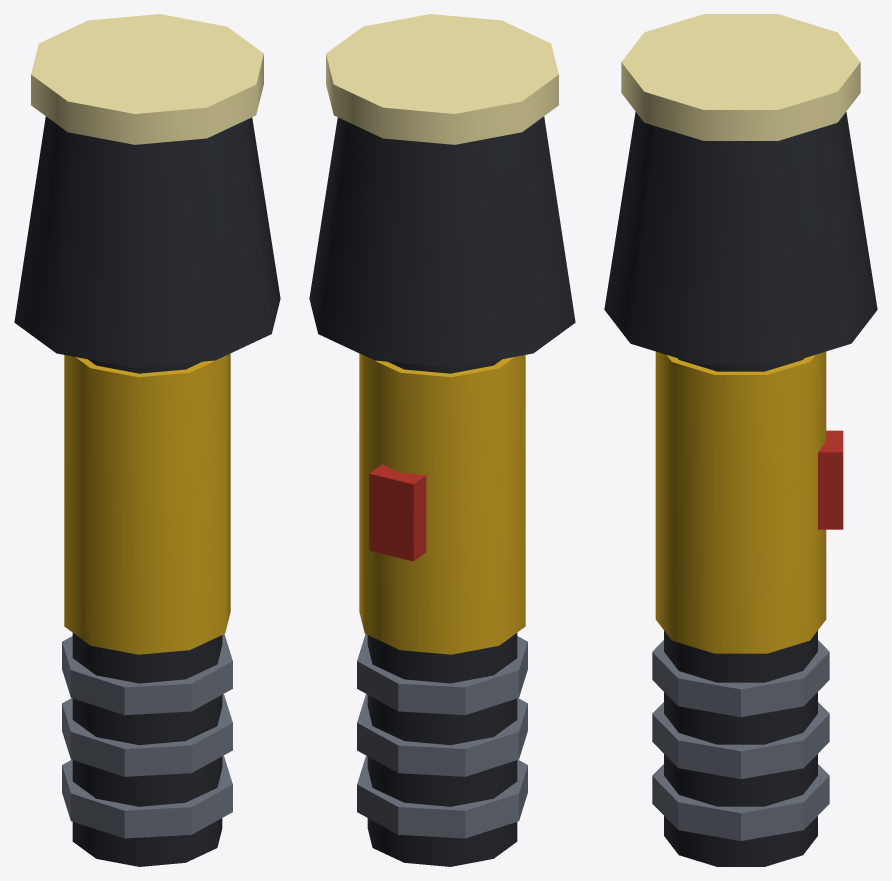
File: item_flashlight.glb
The picture shows the model from 3 angles, left to right: view 1: azimuth 30°, elevation 25°; view 2: azimuth 150°, elevation 25°; view 3: azimuth 270°, elevation 25°; orthographic projection.
Parts seen in each view (by area): view 1: item_flashlight, item_flashlight_detail; view 2: item_flashlight, item_flashlight_detail; view 3: item_flashlight, item_flashlight_detail.
Part boxes in pixels (<box>): item_flashlight: <box>14,14,280,866</box>; item_flashlight_detail: <box>62,634,232,838</box>; item_flashlight: <box>309,14,575,866</box>; item_flashlight_detail: <box>357,634,527,838</box>; item_flashlight: <box>604,14,877,866</box>; item_flashlight_detail: <box>652,640,829,840</box>.
Bounding box in the file's own units: 0.1522 × 0.5 × 0.16.
